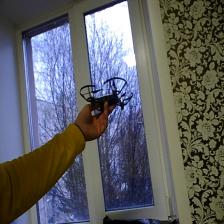drone: (77, 76, 136, 116)
